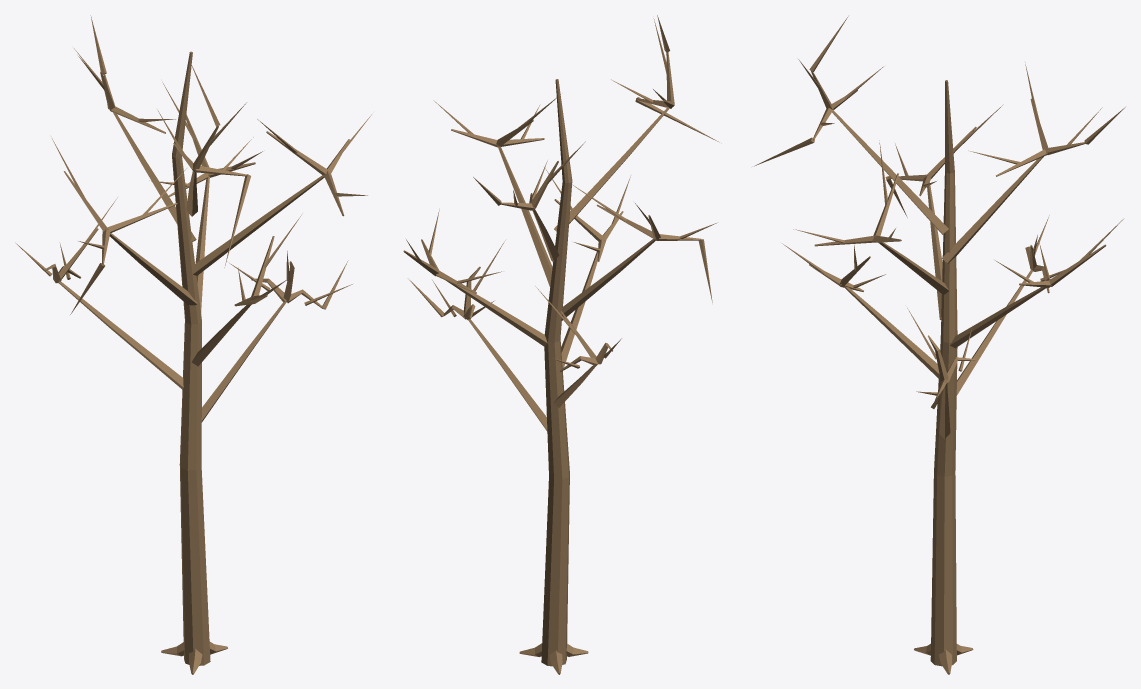
The model's file is oak_bare_02.glb.
The picture shows the model from 3 angles, left to right: view 1: azimuth 30°, elevation 25°; view 2: azimuth 150°, elevation 25°; view 3: azimuth 270°, elevation 25°; orthographic projection. The views are drawn at different scales.
Parts seen in each view (by area): view 1: Oak_bare_02; view 2: Oak_bare_02; view 3: Oak_bare_02.
Part boxes in pixels (box(x1,y1,x2,y2)): Oak_bare_02: box(15, 15, 371, 674); Oak_bare_02: box(403, 15, 721, 674); Oak_bare_02: box(754, 16, 1125, 674).
Bounding box in the file's own units: 8.55 × 17.81 × 9.76.
